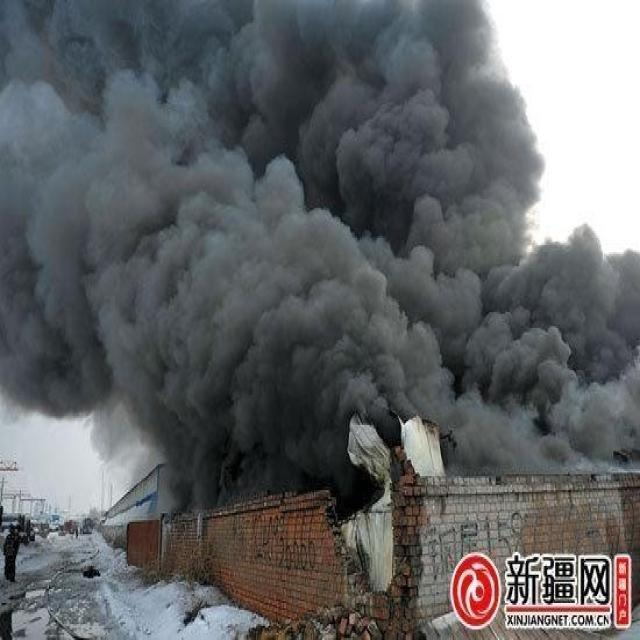Smoke: (1, 1, 640, 514)
